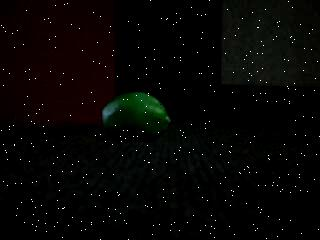Lime: (100, 91, 171, 143)
